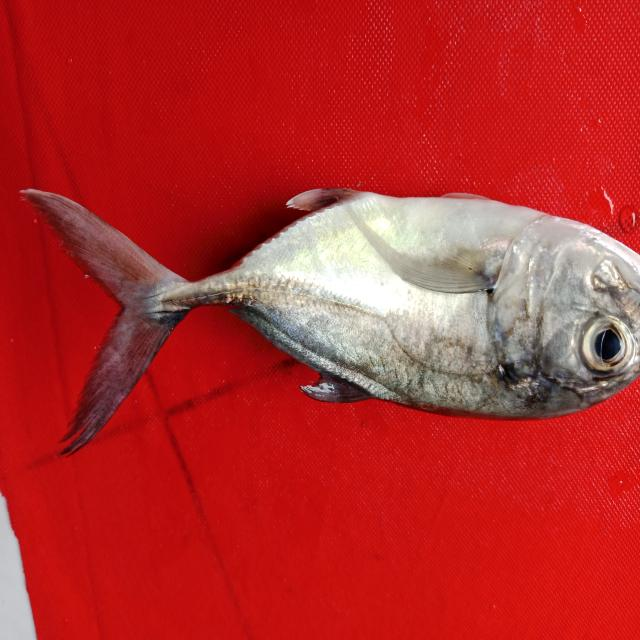ikan: (8, 124, 634, 472)
